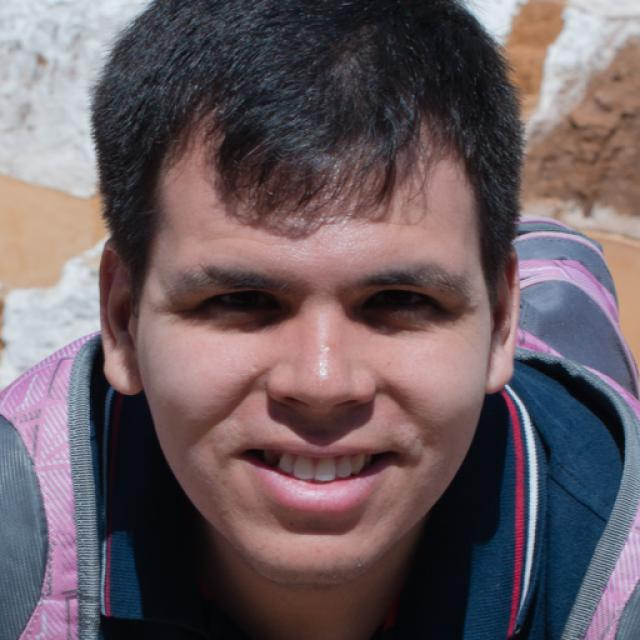Acne: (317, 341, 341, 359)
